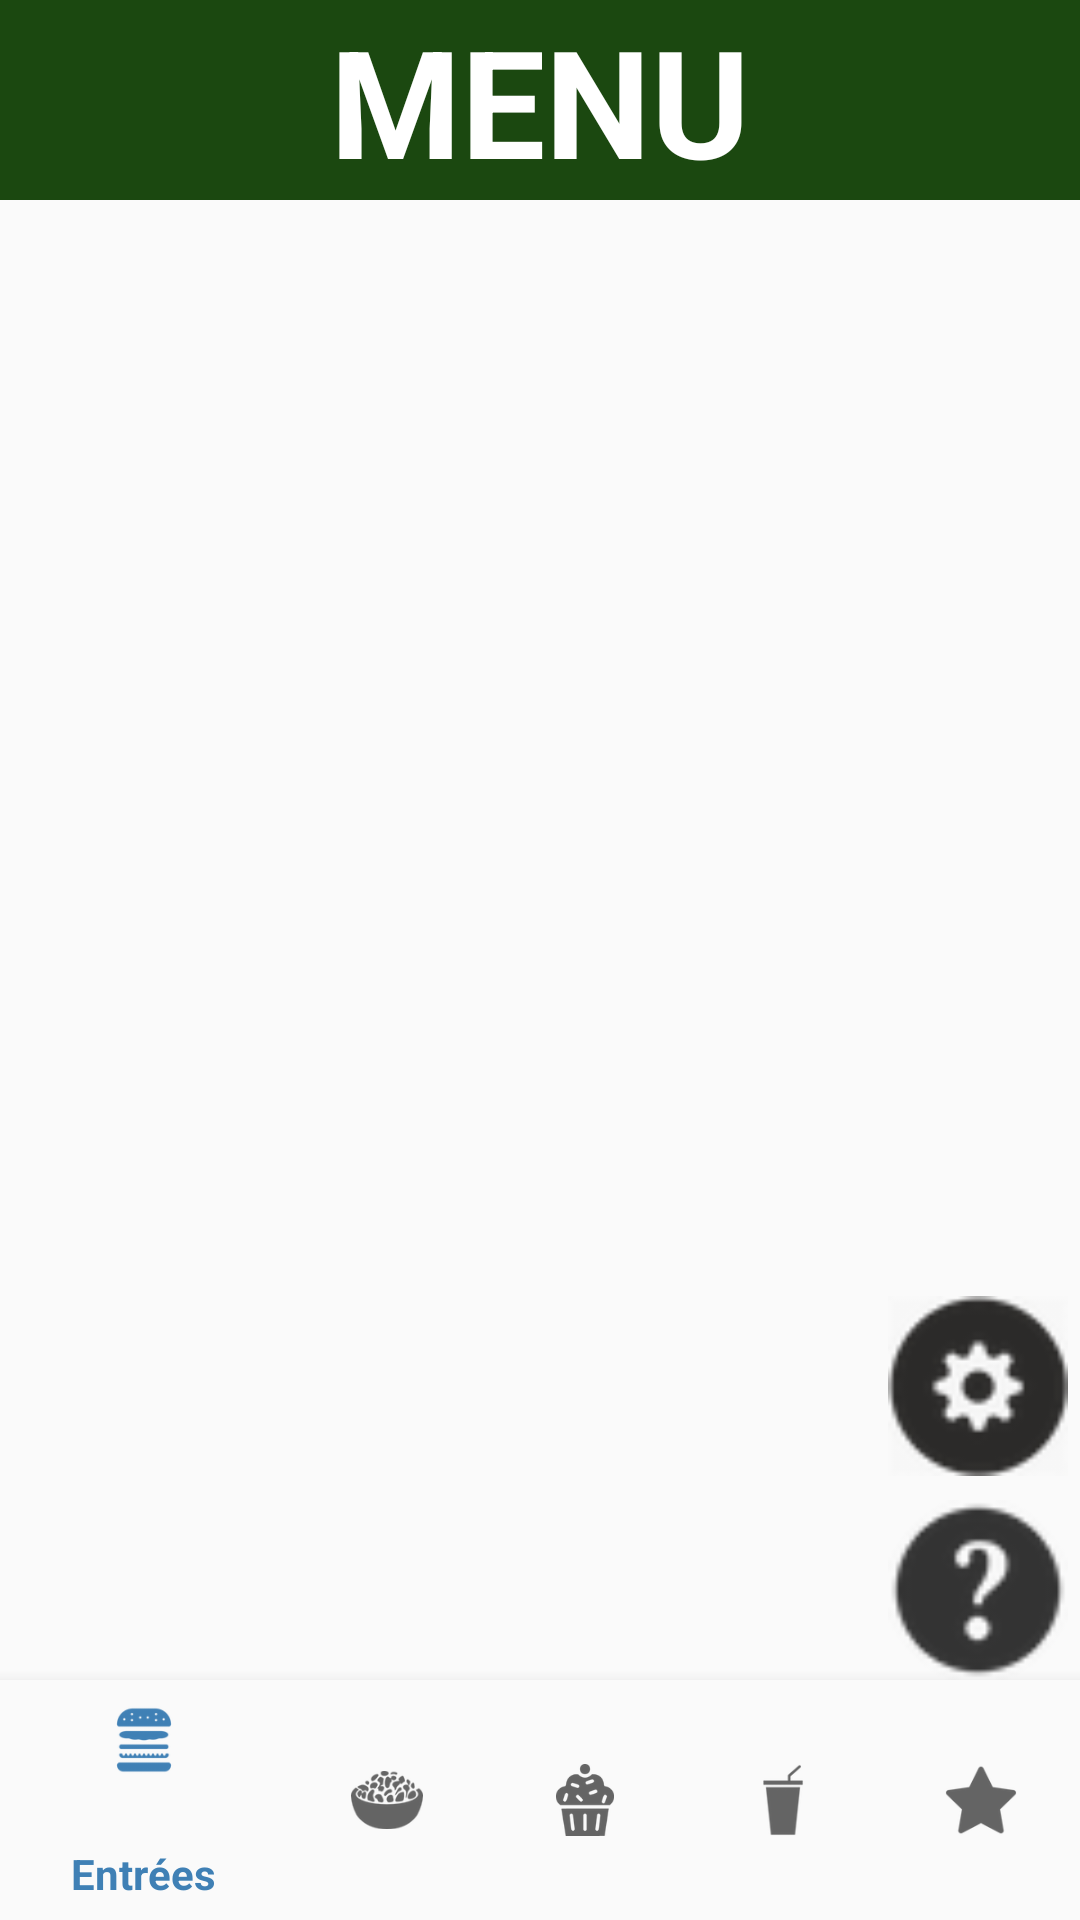

Icon bounding boxes for this 1080 × 1920 phone screenshot, format (x1, y1, x2, y2):
gear: (888, 1296, 1068, 1476)
help: (893, 1505, 1063, 1675)
